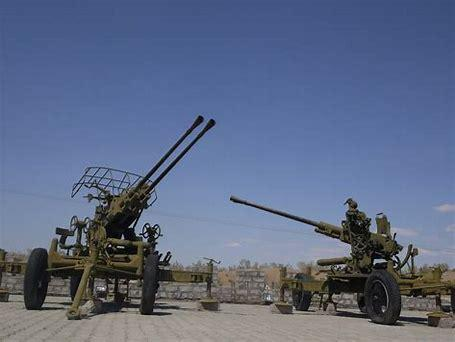MIL_SPG: (24, 116, 213, 319), (230, 196, 455, 324)
